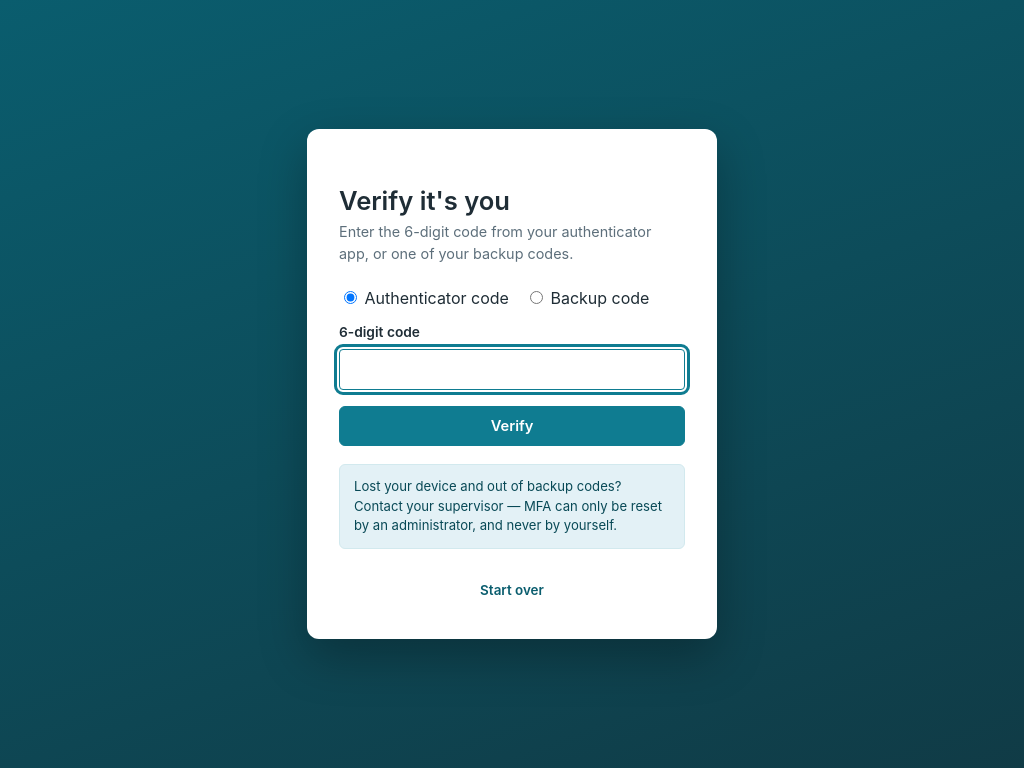
login-challenge screen › shows a rate-limit-specific message on 429
The image size is (1024, 768).
expect the heading "Verify it's you" is shown: met, box [339, 185, 510, 216]
Type "000000" into the field labelled "6-digit code" at (512, 369), box [339, 349, 685, 390]
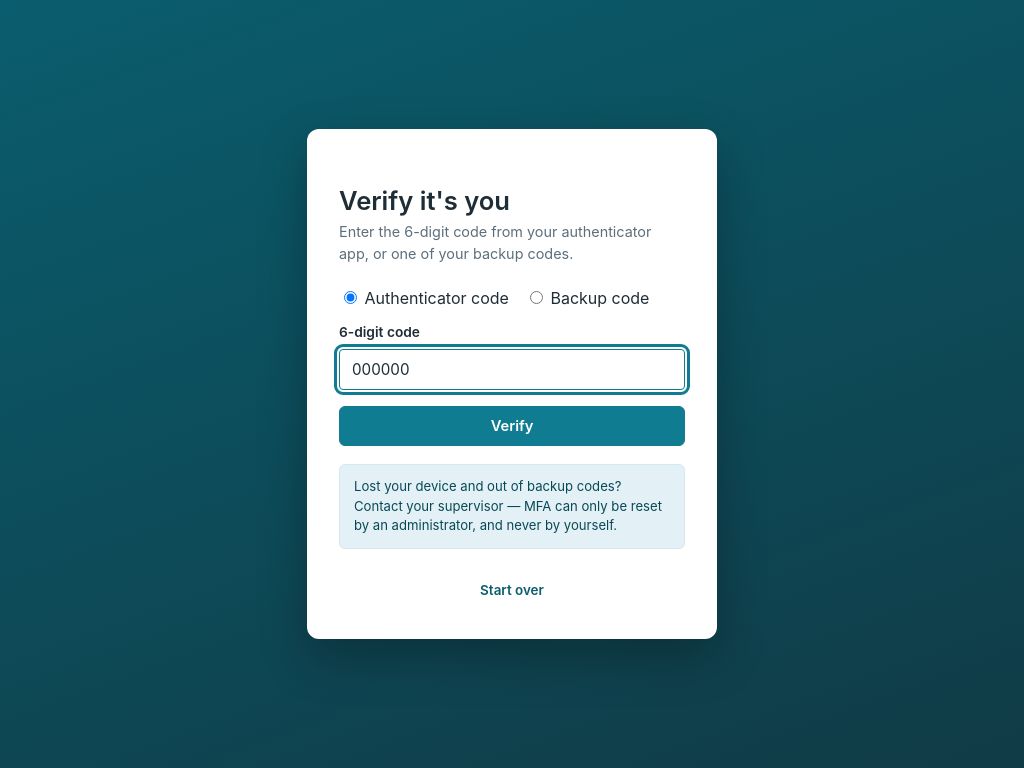
Click the button "Verify" at (512, 426), box [339, 406, 685, 446]
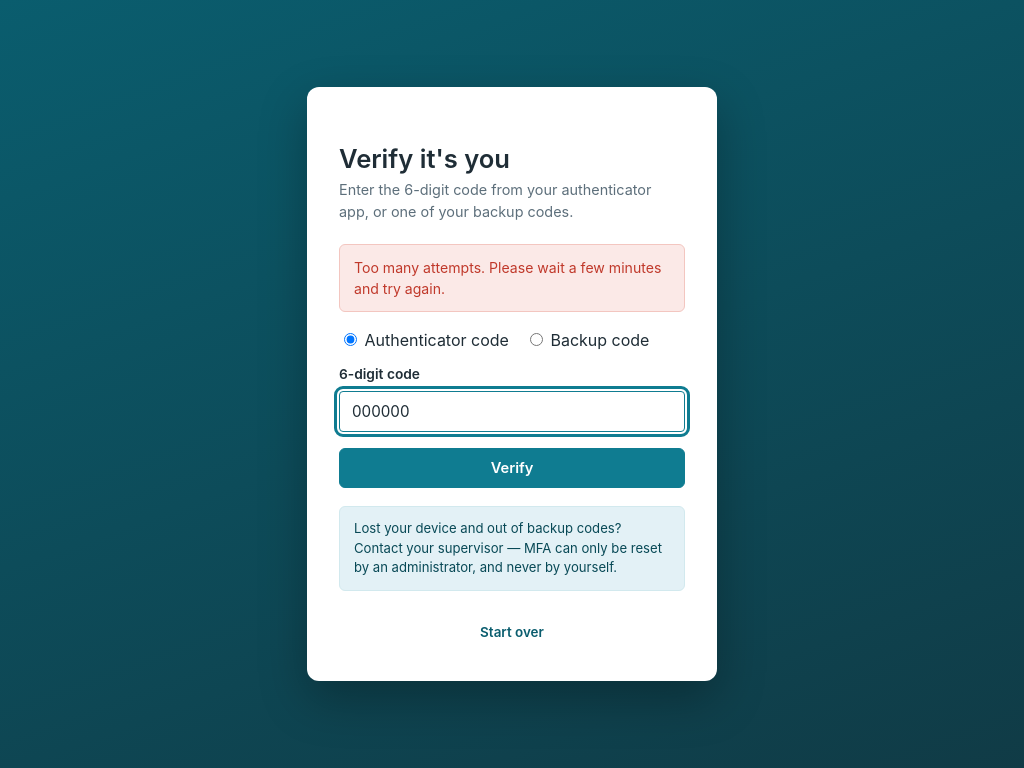
expect the message shows "Too many attempts": met, box [354, 259, 661, 297]
